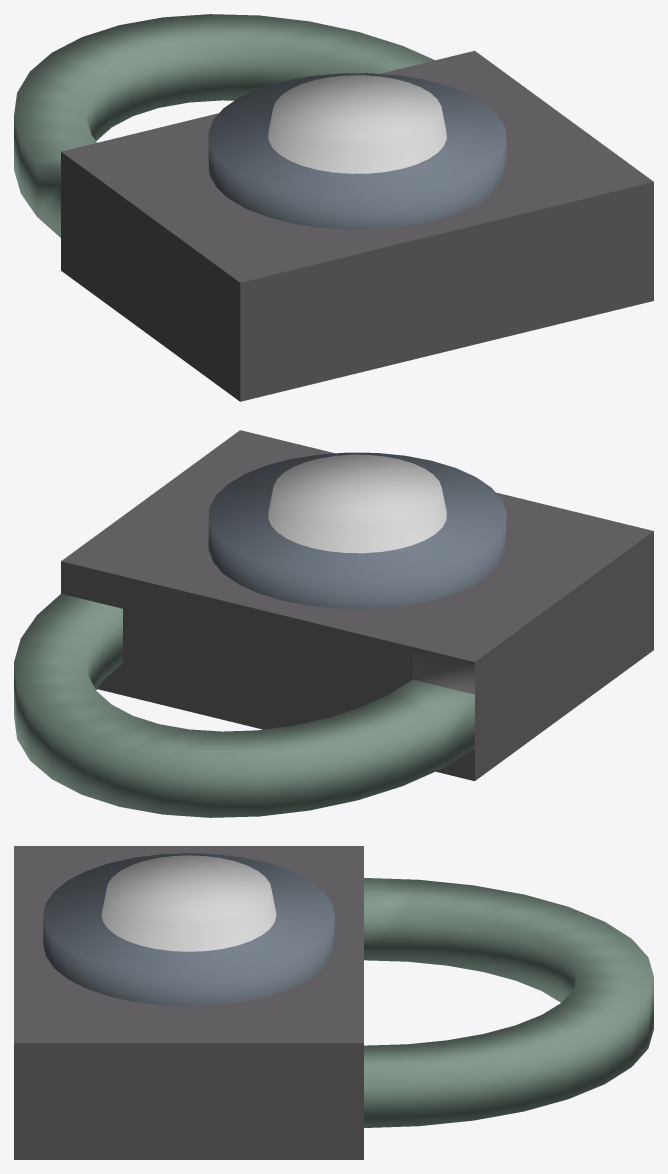
The model's file is lock.fbx.
The picture shows the model from 3 angles, top to bottom: view 1: azimuth 30°, elevation 25°; view 2: azimuth 150°, elevation 25°; view 3: azimuth 270°, elevation 25°; orthographic projection. The views are drawn at different scales.
Parts seen in each view (by area): view 1: lockie; view 2: lockie; view 3: lockie.
Part boxes in pixels (x1,y1,x2,y2): lockie: [14, 14, 653, 401]; lockie: [14, 430, 653, 817]; lockie: [14, 846, 653, 1159].
Size of the model in its own units: 1.6 by 0.646 by 2.19.
